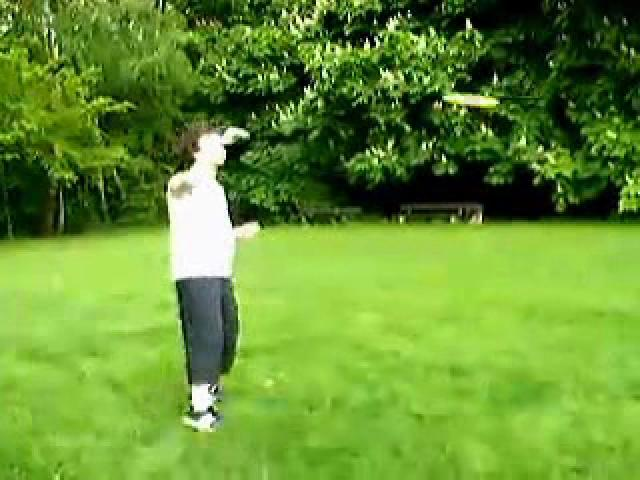T: (140, 111, 298, 453)
